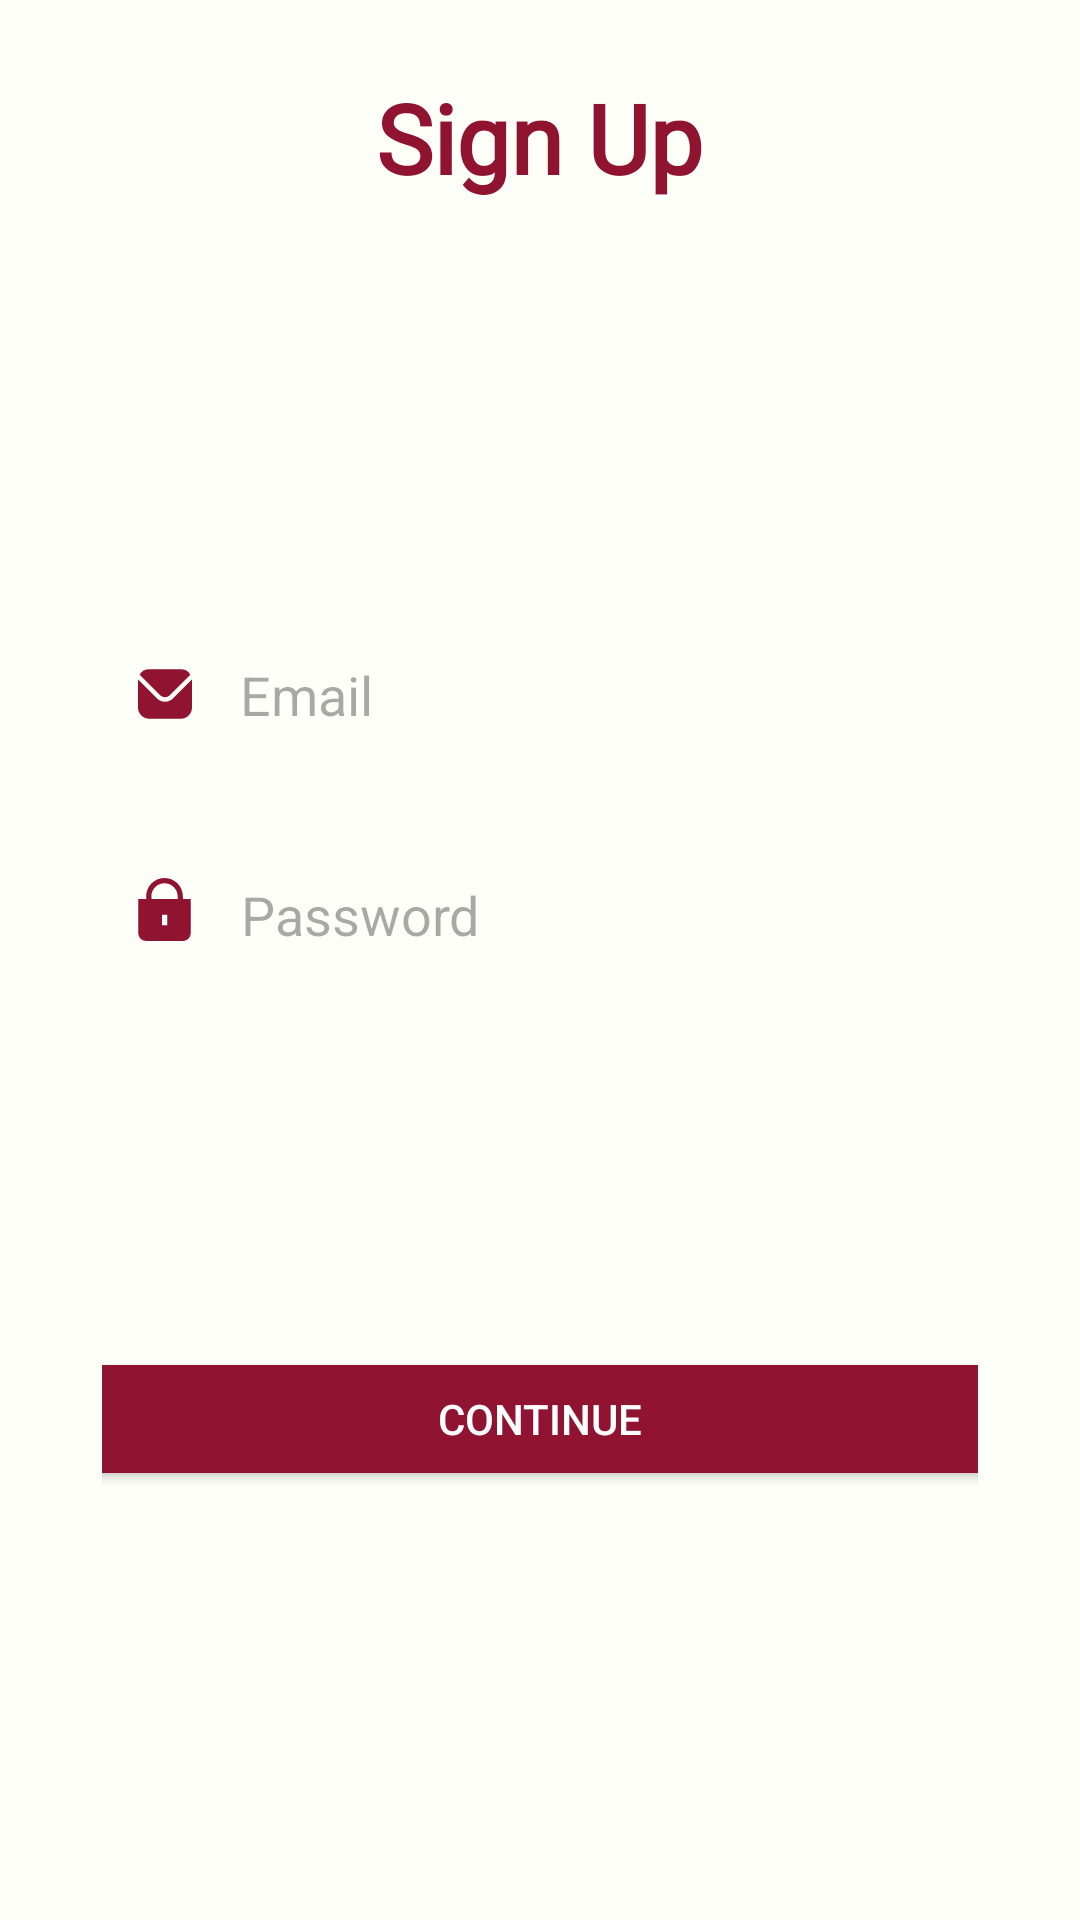

Named icons in this screenshot (1080*1920) and their bounding boxes, (x1, y1, x2, y2):
locker: (138, 878, 191, 941)
